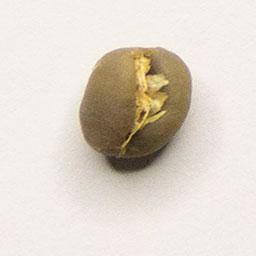peaberry: (75, 42, 197, 164)
